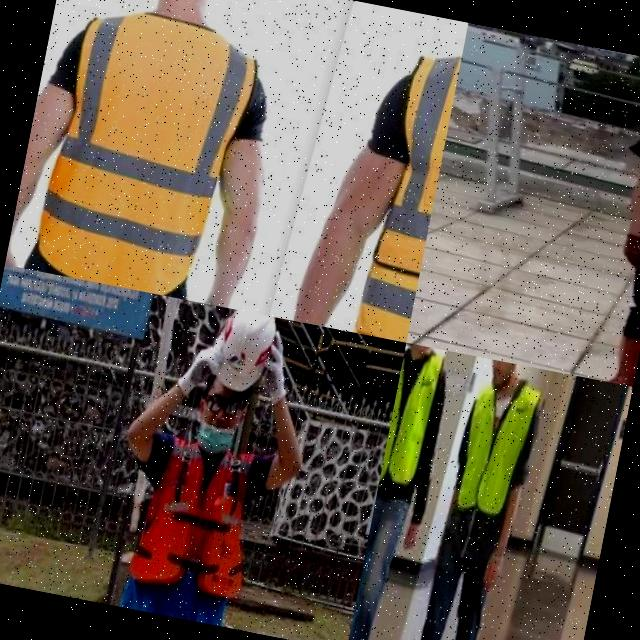boots: (591, 325, 640, 387)
helmet: (206, 307, 282, 396)
vest: (7, 0, 268, 305), (334, 21, 466, 342), (114, 426, 272, 630), (445, 373, 548, 528), (377, 347, 454, 502)
